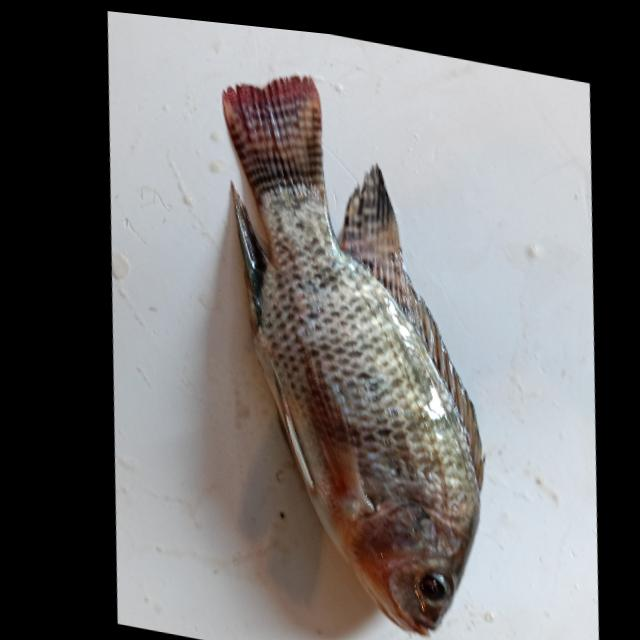Tilapia: (171, 51, 539, 640)
